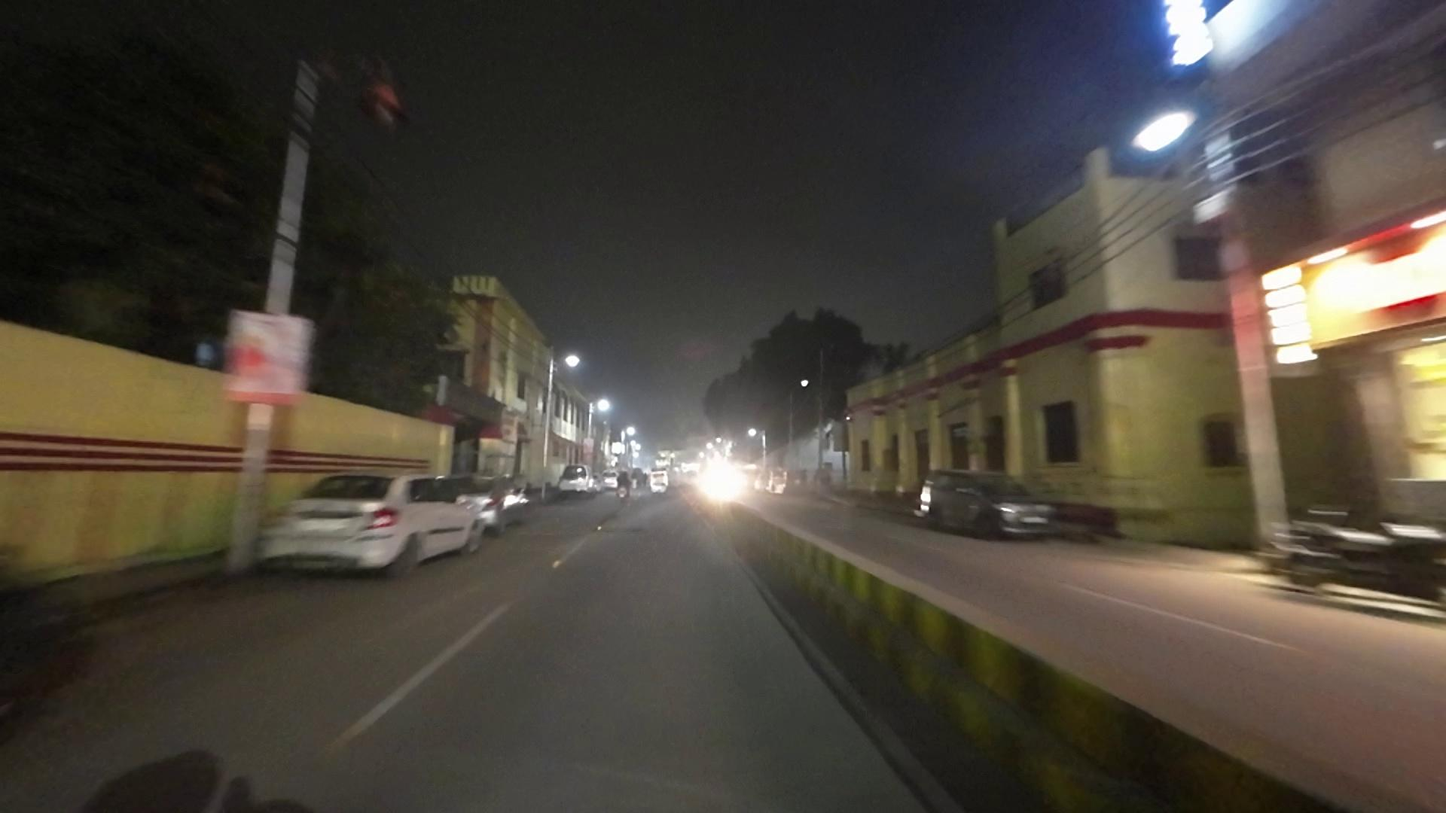streetlight: (352, 53, 402, 129)
